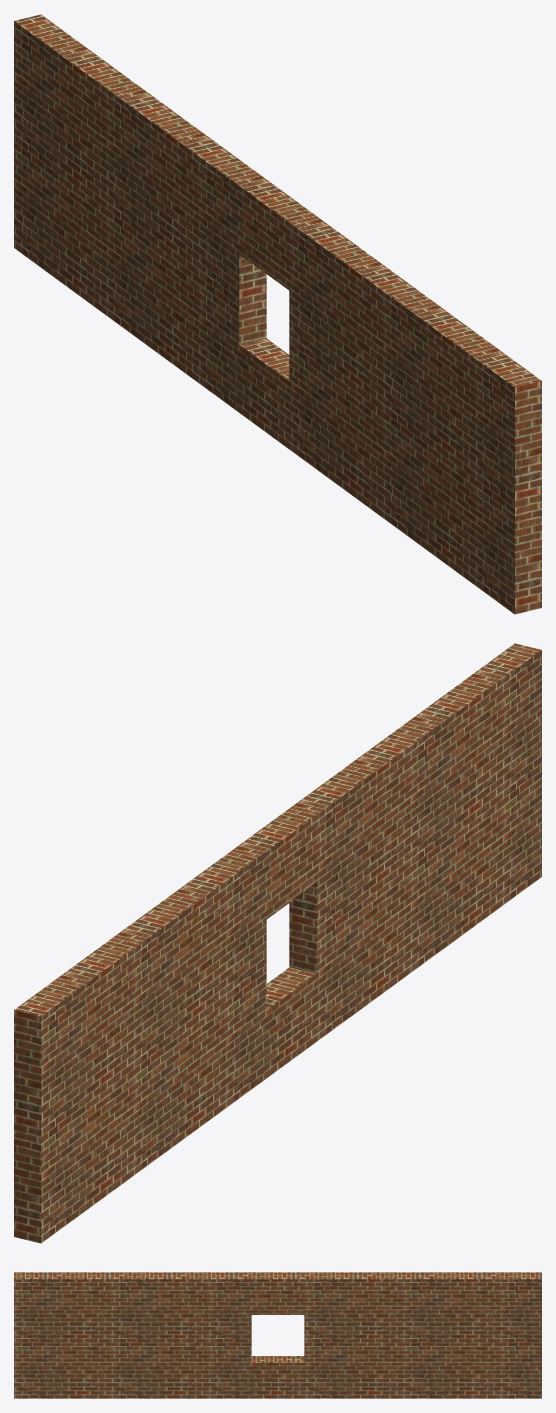
Rendered from brick_wall_hole_6.dae.
3 views of the same model, one above another, from view 1: azimuth 30°, elevation 25°; view 2: azimuth 150°, elevation 25°; view 3: azimuth 270°, elevation 25° (orthographic). The views are drawn at different scales.
Visible parts, largest first — view 1: SketchUp (×2); view 2: SketchUp (×2); view 3: SketchUp (×2).
Boxes of the visible parts, bbox=[...] form: SketchUp (×2): bbox=[14, 14, 541, 614]; SketchUp (×2): bbox=[14, 643, 541, 1243]; SketchUp (×2): bbox=[14, 1272, 541, 1398].
Bounding box in the file's own units: 9.84 × 315 × 78.74.
